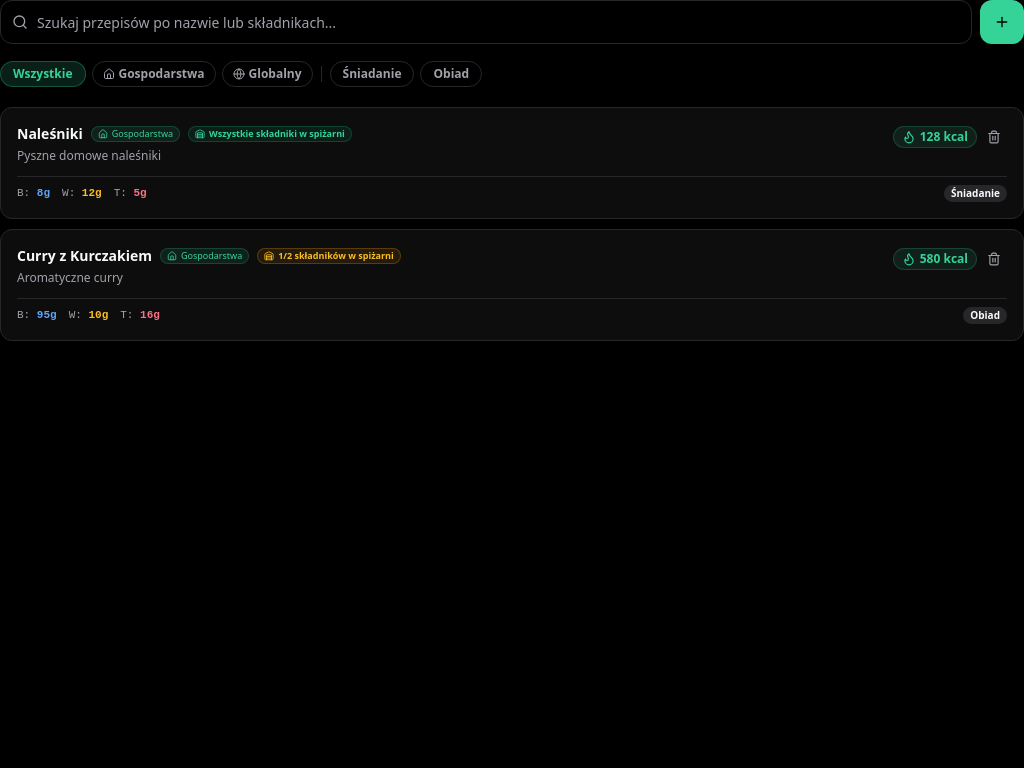
Test: CookbookView - Pantry Stock Badges & Recipe Availability (ADR-008 Phase 4) › Flow 02: clicking a recipe opens details sheet showing ingredient stock badges
Click the heading "Naleśniki" at (50, 134), box [17,124,83,144]
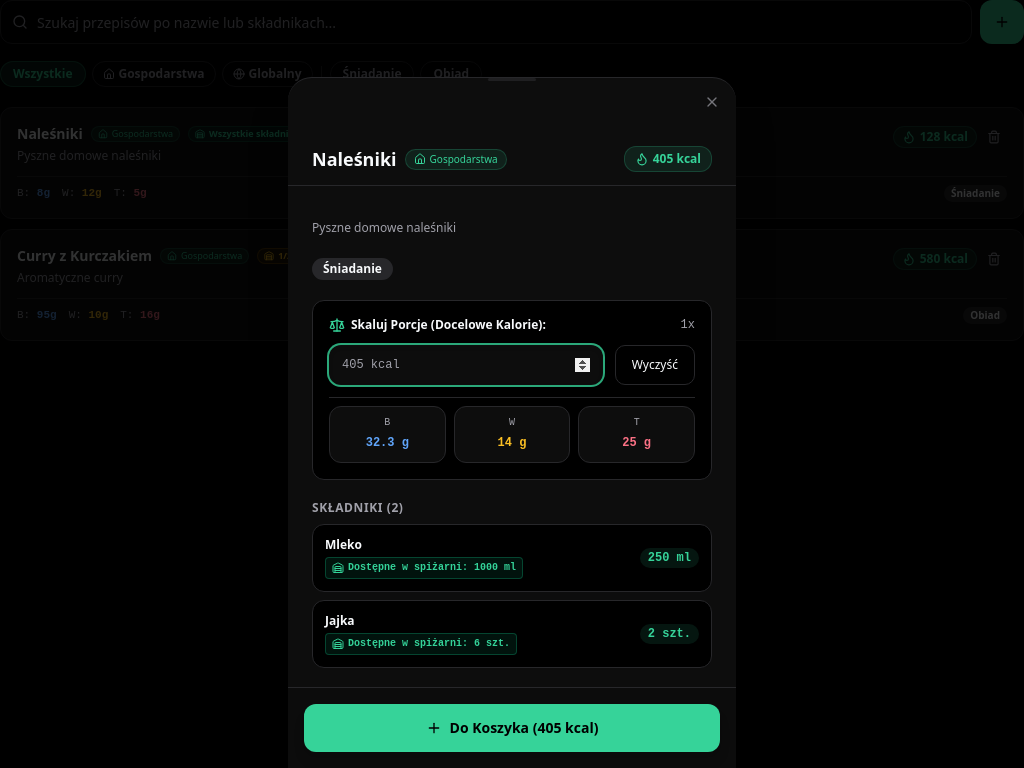
expect the heading "Składniki (2)" is shown: met, box [312,499,404,516]
